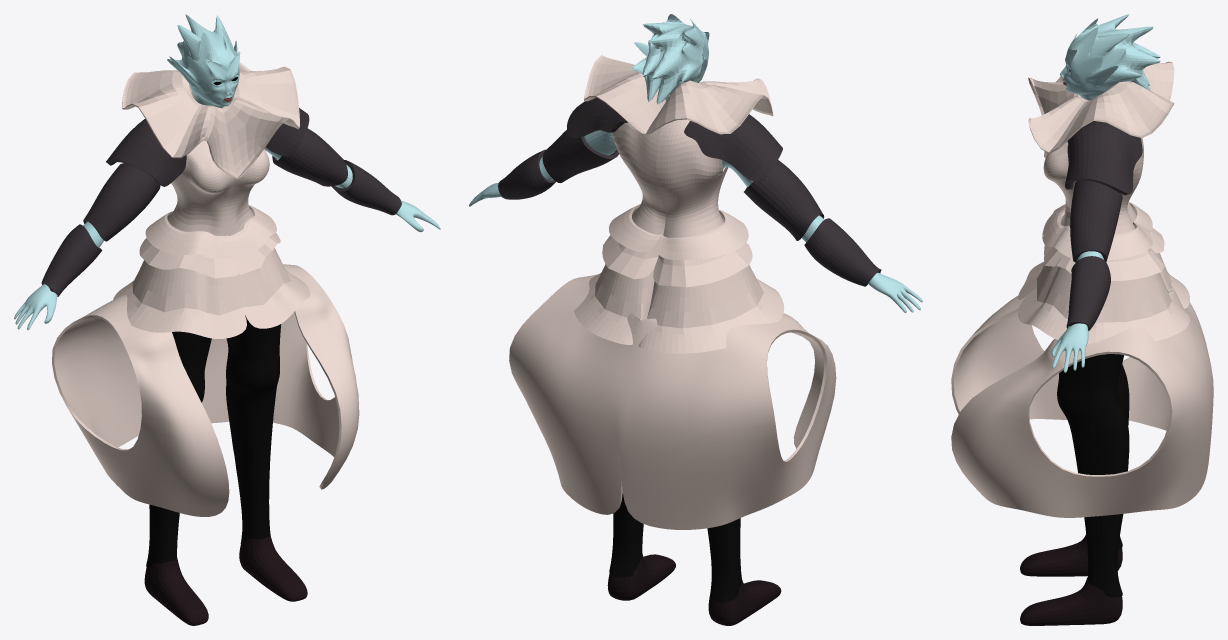
File: enemigor.fbx
3 views of the same model, side by side, from view 1: azimuth 30°, elevation 25°; view 2: azimuth 150°, elevation 25°; view 3: azimuth 270°, elevation 25° (orthographic). The views are drawn at different scales.
Parts seen in each view (by area): view 1: chaleco, REMERA, Pollera, pANTALON, Brazaletes, personaje, Zapato, Hombreras; view 2: chaleco, Pollera, REMERA, Brazaletes, personaje, Hombreras, pANTALON, Zapato; view 3: chaleco, Pollera, pANTALON, REMERA, personaje, Brazaletes, Zapato, Hombreras.
Part boxes in pixels (<box>): chaleco: <box>52,264,359,516</box>; REMERA: <box>122,62,299,235</box>; Pollera: <box>113,205,310,338</box>; pANTALON: <box>146,315,281,567</box>; Brazaletes: <box>41,128,401,296</box>; personaje: <box>14,14,440,330</box>; Zapato: <box>144,536,307,625</box>; Hombreras: <box>106,108,309,186</box>; chaleco: <box>509,274,836,529</box>; Pollera: <box>574,204,784,353</box>; REMERA: <box>584,55,772,237</box>; Brazaletes: <box>498,130,881,286</box>; personaje: <box>469,14,922,312</box>; Hombreras: <box>567,97,782,181</box>; pANTALON: <box>609,493,741,602</box>; Zapato: <box>607,553,781,625</box>; chaleco: <box>951,274,1213,517</box>; Pollera: <box>1018,202,1189,344</box>; pANTALON: <box>1057,354,1129,597</box>; REMERA: <box>1028,61,1174,234</box>; personaje: <box>1051,14,1160,372</box>; Brazaletes: <box>1066,180,1122,331</box>; Zapato: <box>1020,534,1122,625</box>; Hombreras: <box>1065,121,1142,195</box>.
Size of the model in its own units: 156 by 197 by 81.38.
